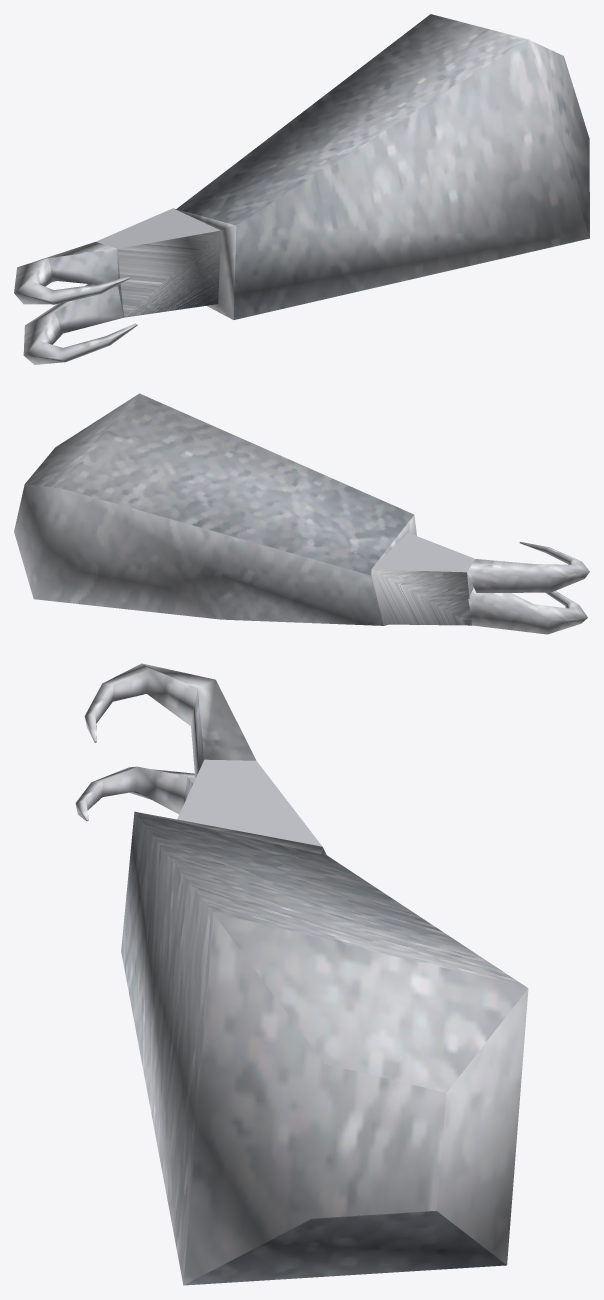
Rendered from hook.fbx.
3 renders of one model, top to bottom at view 1: azimuth 30°, elevation 25°; view 2: azimuth 150°, elevation 25°; view 3: azimuth 270°, elevation 25°, orthographic. The views are drawn at different scales.
Visible parts, largest first — view 1: Body.001; view 2: Body.001; view 3: Body.001.
Boxes of the visible parts, x1,y1,x2,y2 form: Body.001: (14,14,589,364); Body.001: (14,393,589,634); Body.001: (75,663,528,1285).
Bounding box in the file's own units: 1.91 × 0.5964 × 0.7405.
